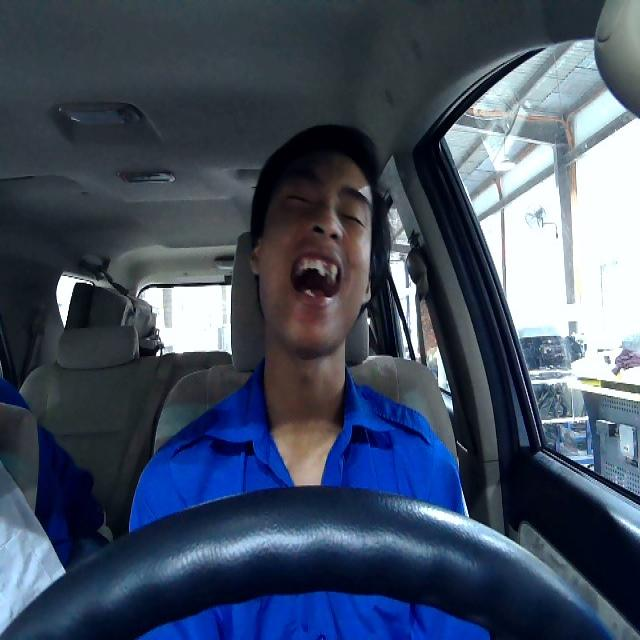yarning: (247, 151, 371, 360)
